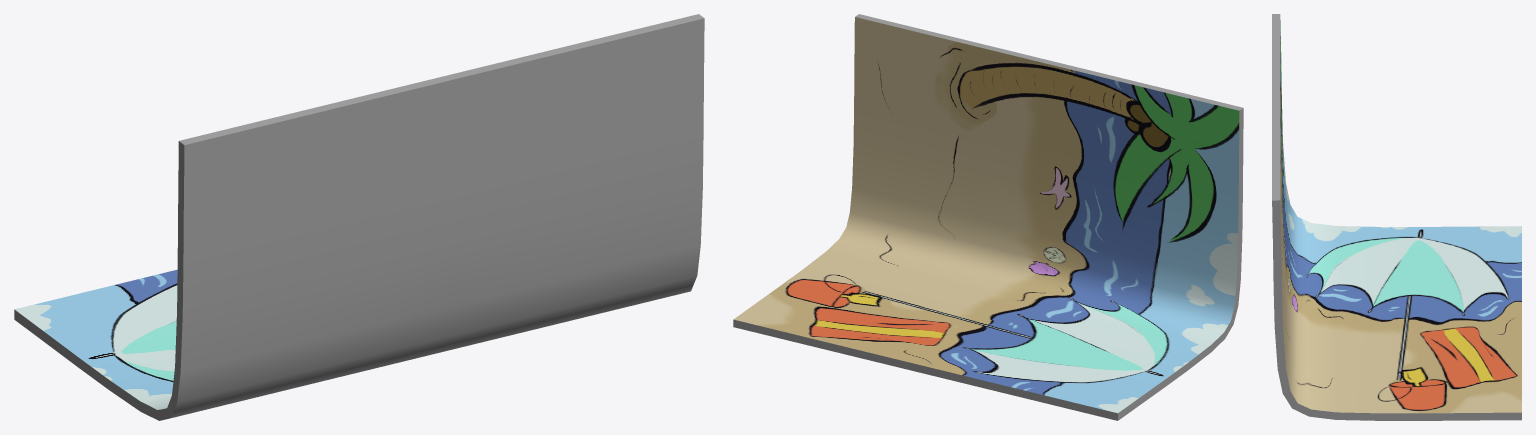
3 renders of one model, left to right at view 1: azimuth 30°, elevation 25°; view 2: azimuth 150°, elevation 25°; view 3: azimuth 270°, elevation 25°, orthographic. The views are drawn at different scales.
Parts seen in each view (by area): view 1: nurbsToPoly1; view 2: nurbsToPoly1; view 3: nurbsToPoly1.
Part boxes in pixels (x1,y1,x2,y2): nurbsToPoly1: (14, 14, 704, 420); nurbsToPoly1: (733, 14, 1243, 420); nurbsToPoly1: (1272, 14, 1521, 420).
Size of the model in its own units: 1649 by 910 by 934.
